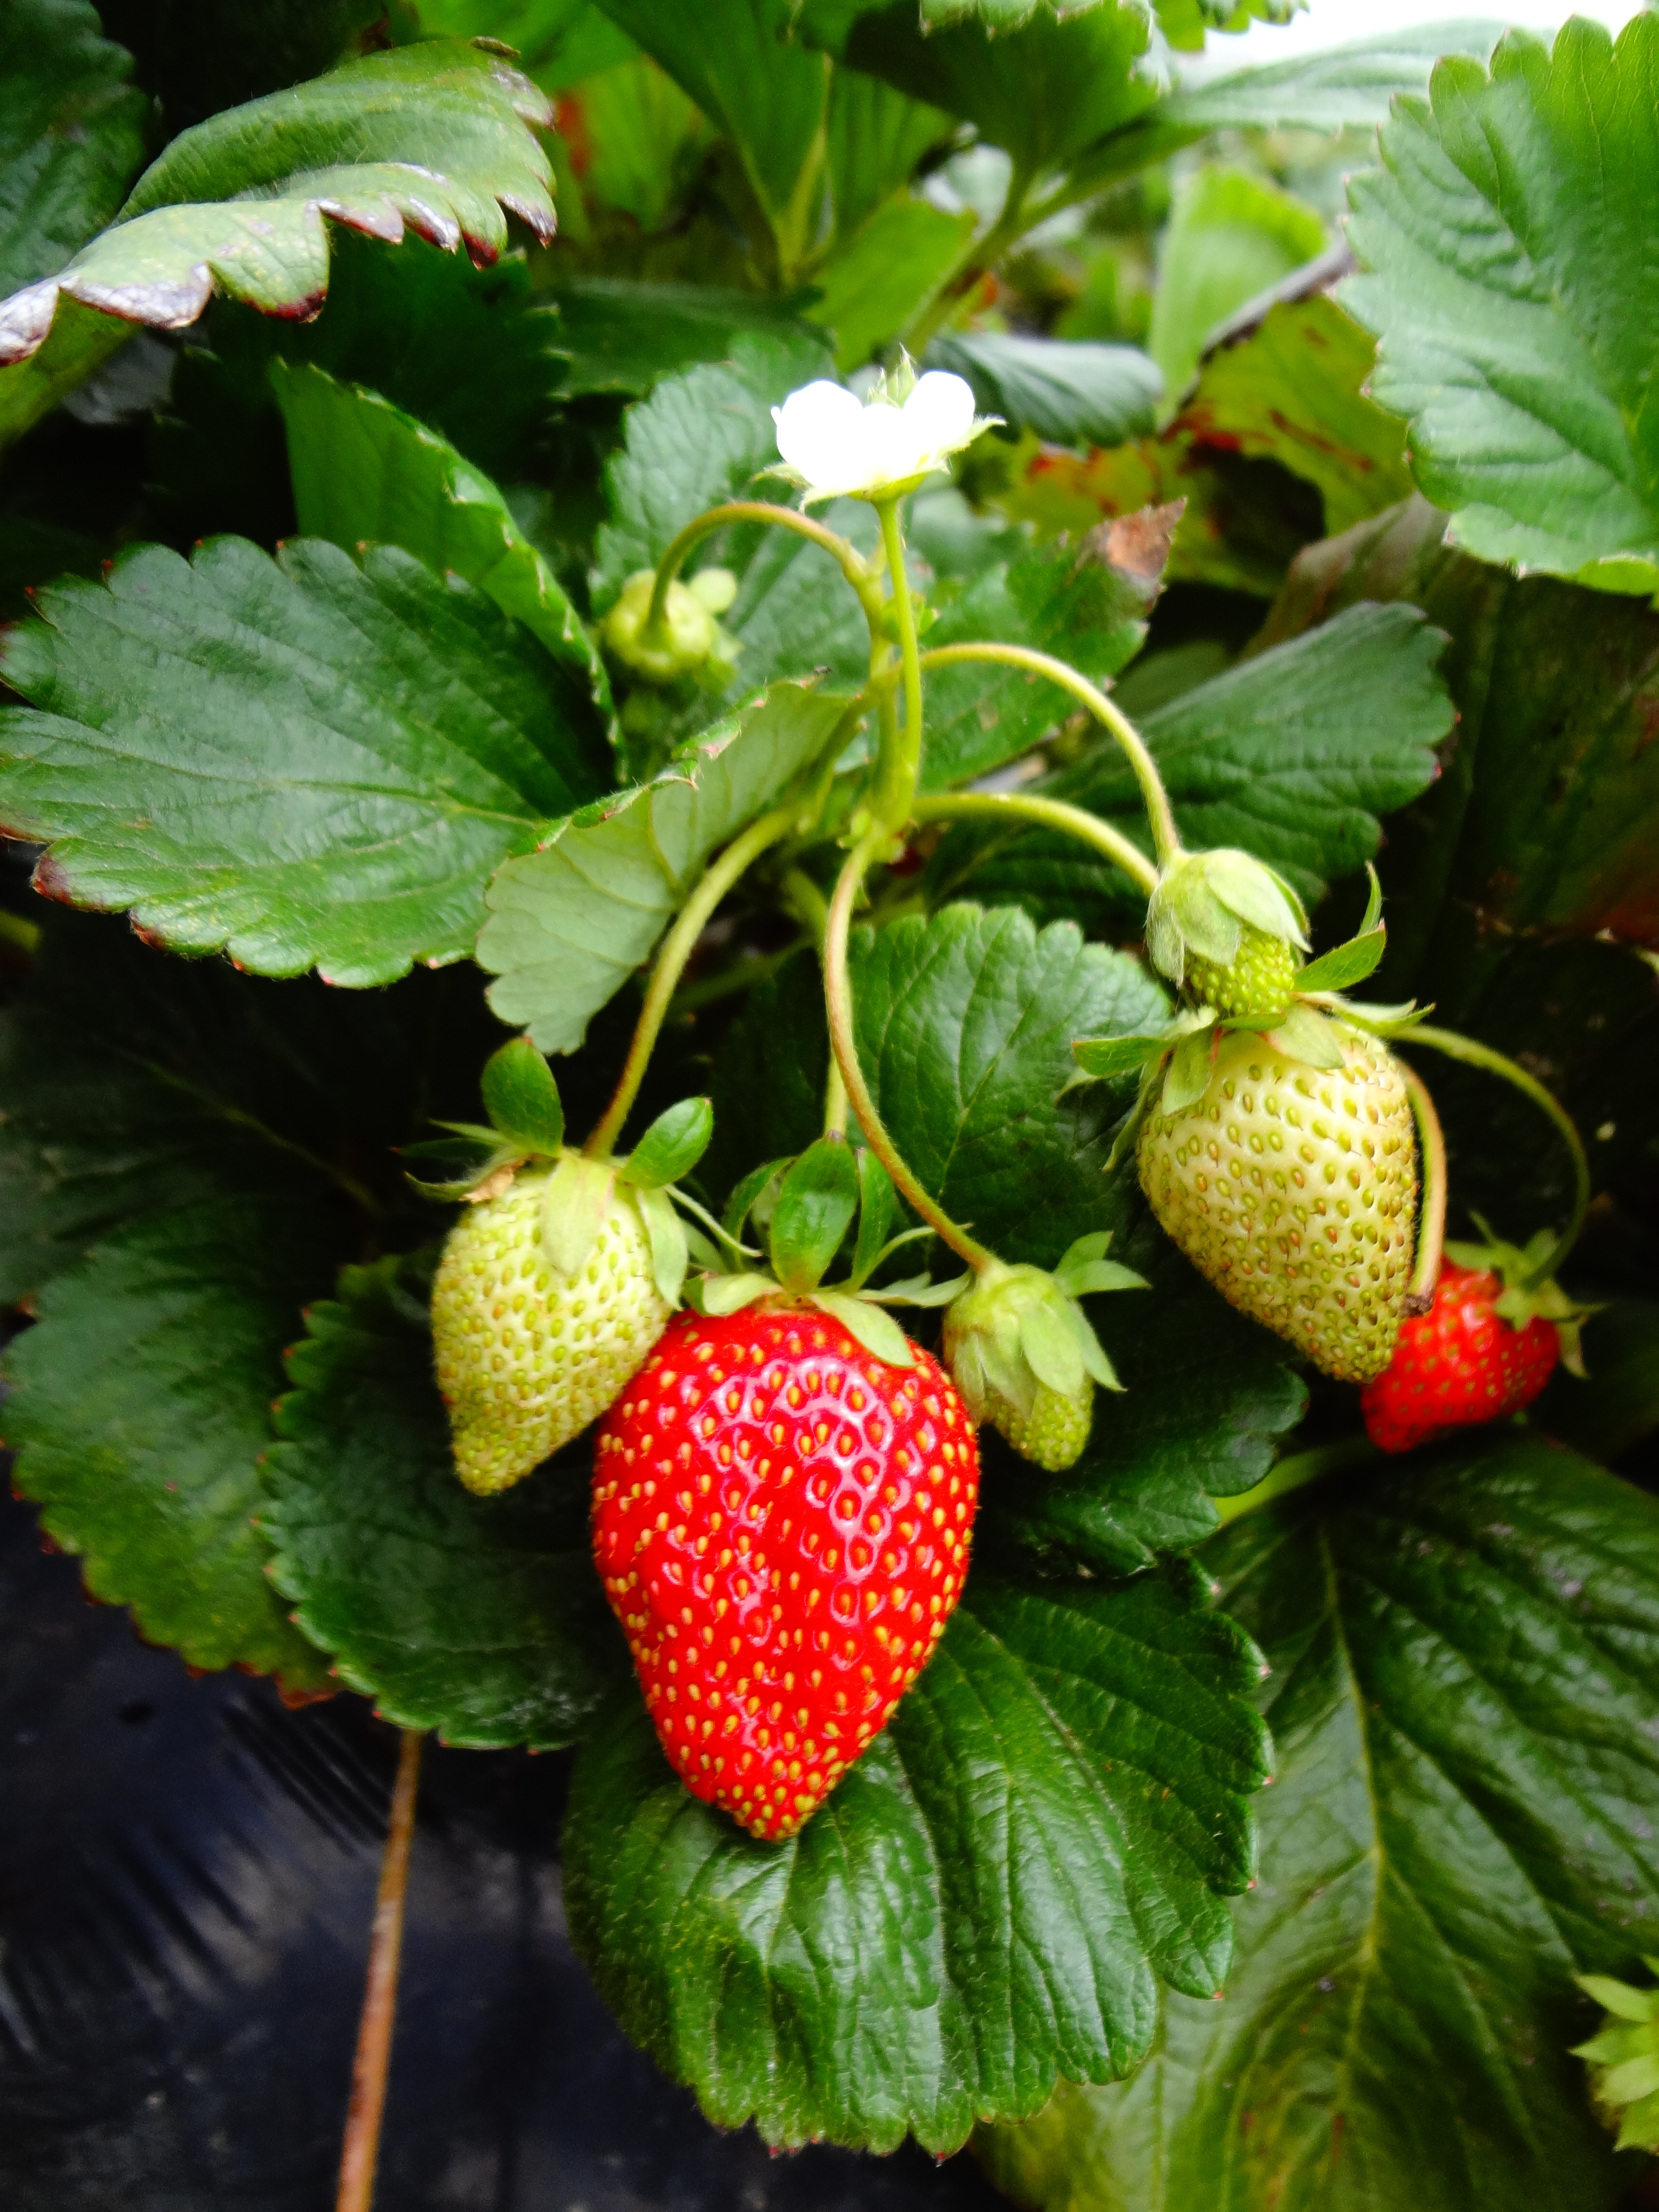ripe_strawberry: (586, 1277, 990, 1858), (1354, 1233, 1568, 1465)
unripe_strawberry: (1124, 1005, 1417, 1392), (422, 1136, 695, 1505), (932, 1263, 1115, 1475), (1155, 855, 1314, 1021)
